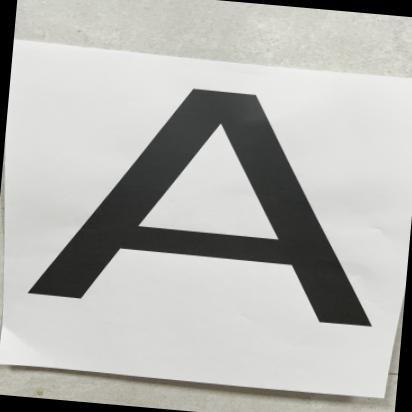seat: (0, 55, 402, 340)
